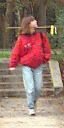person: (11, 15, 54, 111)
